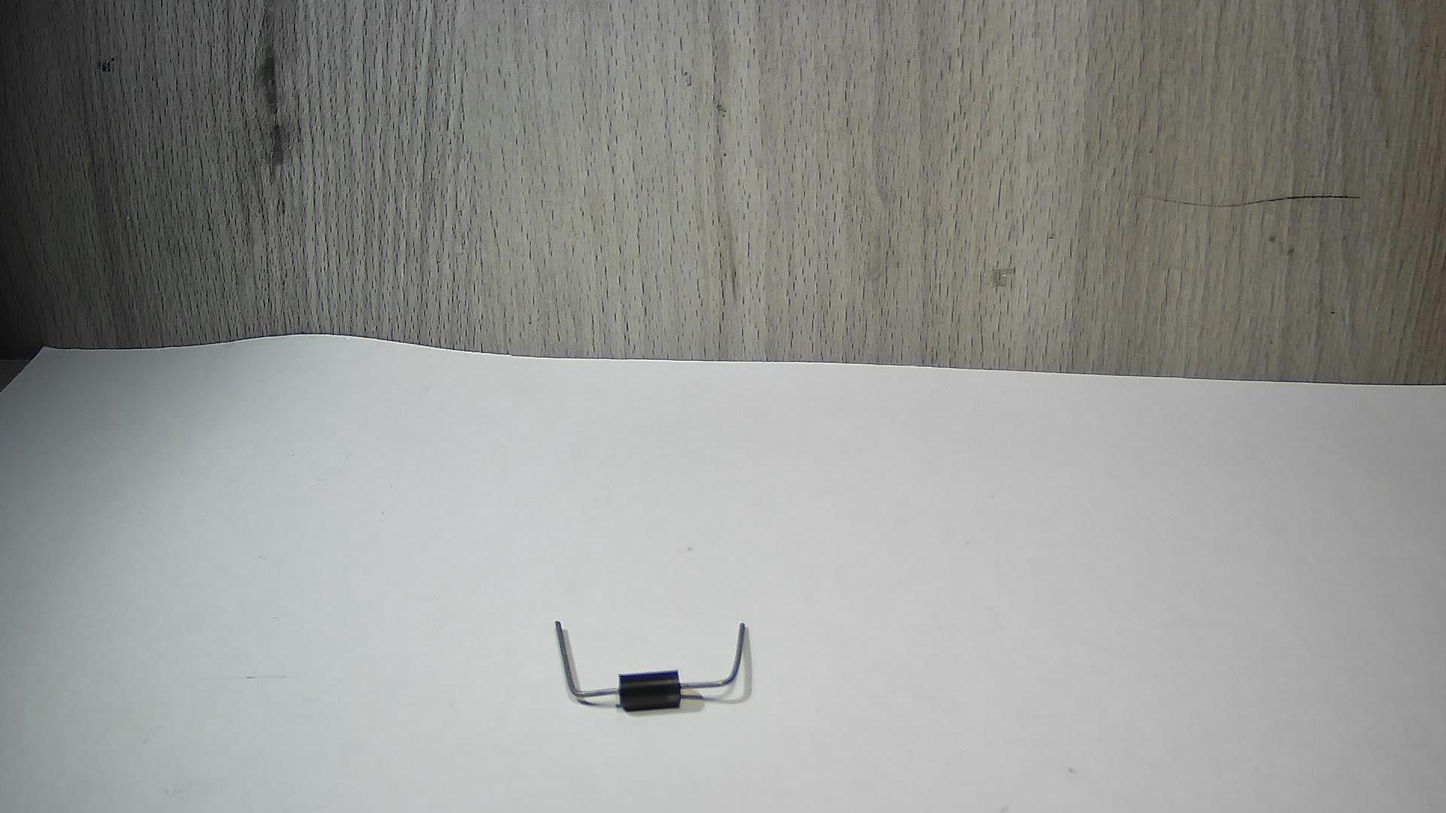Diodo: (522, 587, 803, 733)
